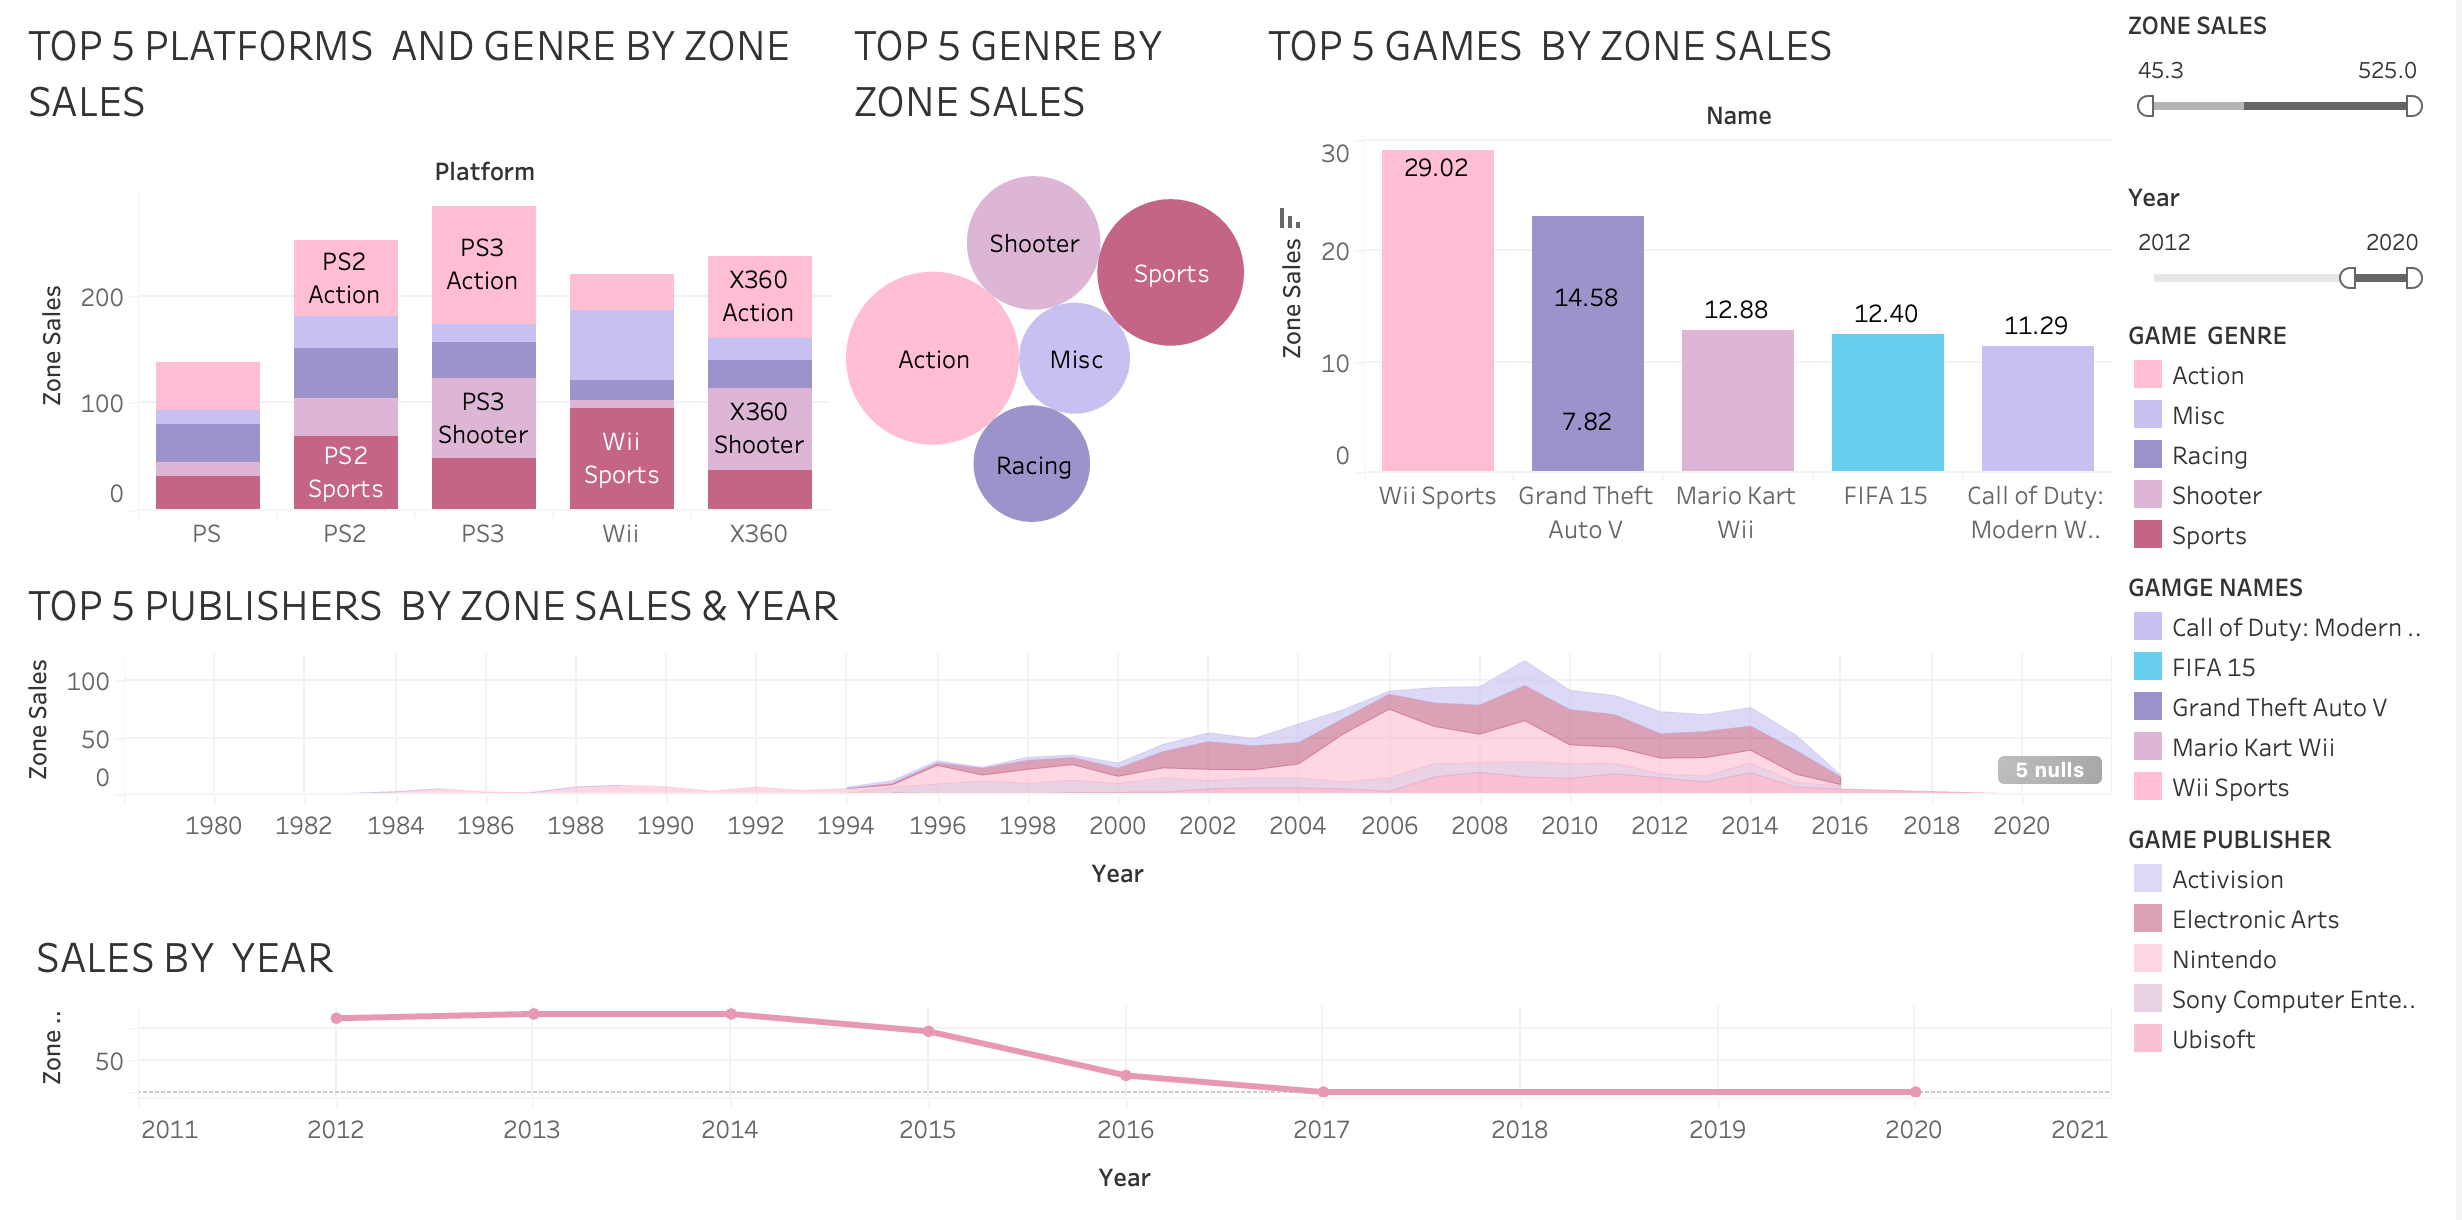

The dashboard page shown, as its layout file describes it:
{"tool":"tableau","page":{"name":"TOP 5 GAMES,GENRE AND PUBLISHER BY ZONE SALES (2)","canvas":[1000,1000],"units":"permille","ordinal":2},"visuals":[{"type":"worksheet","title":"TOP 5 genre by sales","mark":"Circle","box":[6.5,12.7,204.1,448.2]},{"type":"worksheet","title":"TOP 5 PLATFORM & genre by sales (2)","mark":"Automatic","box":[210.6,12.7,317.9,448.2]},{"type":"worksheet","title":"TOP 5 GENRE ZONE SALES BY YEAR","mark":"Automatic","rows":["Calculation_167336942263980033"],"cols":["Year"],"box":[528.4,12.7,335,448.2]},{"type":"filter","title":"TOP 5 genre by sales","param":"[federated.1hq2giy18omhrr17rz2170e2f8a8].[sum:Calculation_167336942263980033:qk]","box":[863.4,12.7,130.1,136.7]},{"type":"filter","title":"TOP 5 GENRE ZONE SALES BY YEAR","param":"[federated.1hq2giy18omhrr17rz2170e2f8a8].[none:Year:qk]","box":[863.4,149.5,130.1,103.7]},{"type":"legend","title":"TOP 5 genre by sales","param":"[federated.1hq2giy18omhrr17rz2170e2f8a8].[none:Genre:nk]","box":[863.4,253.1,130.1,103.7]},{"type":"legend","title":"TOP 5 GAMES BY  SALES","param":"[federated.1hq2giy18omhrr17rz2170e2f8a8].[none:Name:nk]","box":[863.4,356.8,130.1,103.7]},{"type":"legend","title":"TOP 5 PUBLISHER BY ZONE AND YEAR","param":"[federated.1hq2giy18omhrr17rz2170e2f8a8].[none:Publisher:nk]","box":[863.4,460.4,130.1,216.2]},{"type":"worksheet","title":"TOP 5 PUBLISHER BY ZONE AND YEAR","mark":"Area","rows":["Calculation_167336942263980033"],"cols":["Year"],"box":[6.5,460.9,539.8,526.4]},{"type":"worksheet","title":"TOP 5 GAMES BY  SALES","mark":"Automatic","rows":["Calculation_167336942263980033"],"cols":["Name"],"box":[546.3,460.9,317.1,526.4]},{"type":"filter","title":"TOP 5 PLATFORM & genre by sales (2)","param":"[federated.1hq2giy18omhrr17rz2170e2f8a8].[none:Platform:nk]","box":[863.4,676.6,130.1,103.7]},{"type":"filter","title":"TOP 5 PLATFORM & genre by sales (2)","param":"[federated.1hq2giy18omhrr17rz2170e2f8a8].[sum:Calculation_167336942263980033:qk]","box":[863.4,780.3,130.1,103.7]},{"type":"legend","title":"TOP 5 PLATFORM & genre by sales (2)","param":"[federated.1hq2giy18omhrr17rz2170e2f8a8].[sum:Calculation_167336942263980033:qk]","box":[863.4,883.9,130.1,103.4]}]}

Visuals, with their boxes on the dashboard's canvas, which has no fixed pixel size, in thousandths of its width and height (x1, y1, x2, y2). These are canvas units, not pixel positions in the 2462x1220 screenshot, which may show the page scaled, cropped or inside an application window:
"TOP 5 genre by sales" worksheet (Circle marks): [left=6, top=13, right=211, bottom=461]
"TOP 5 PLATFORM & genre by sales (2)" worksheet: [left=211, top=13, right=528, bottom=461]
"TOP 5 GENRE ZONE SALES BY YEAR" worksheet: [left=528, top=13, right=863, bottom=461]
"TOP 5 genre by sales" filter: [left=863, top=13, right=994, bottom=149]
"TOP 5 GENRE ZONE SALES BY YEAR" filter: [left=863, top=150, right=994, bottom=253]
"TOP 5 genre by sales" legend: [left=863, top=253, right=994, bottom=357]
"TOP 5 GAMES BY  SALES" legend: [left=863, top=357, right=994, bottom=460]
"TOP 5 PUBLISHER BY ZONE AND YEAR" legend: [left=863, top=460, right=994, bottom=677]
"TOP 5 PUBLISHER BY ZONE AND YEAR" worksheet (Area marks): [left=6, top=461, right=546, bottom=987]
"TOP 5 GAMES BY  SALES" worksheet: [left=546, top=461, right=863, bottom=987]
"TOP 5 PLATFORM & genre by sales (2)" filter: [left=863, top=677, right=994, bottom=780]
"TOP 5 PLATFORM & genre by sales (2)" filter: [left=863, top=780, right=994, bottom=884]
"TOP 5 PLATFORM & genre by sales (2)" legend: [left=863, top=884, right=994, bottom=987]
